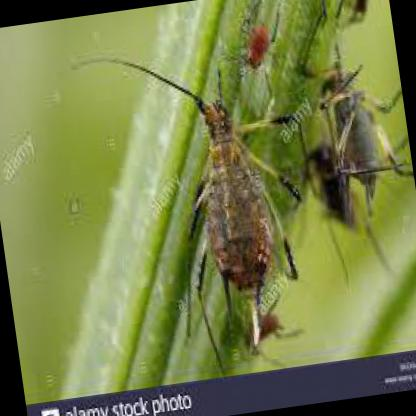uroleucon compositae: (190, 96, 301, 353)
